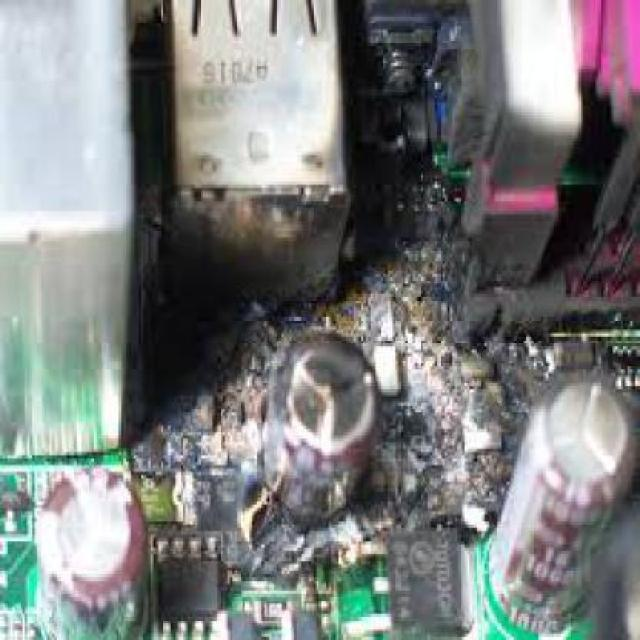Burn: (167, 245, 496, 398)
